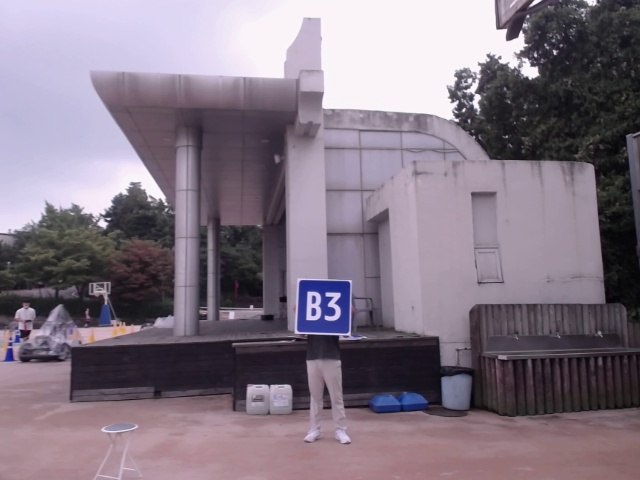delivery_b3: (296, 278, 350, 336)
